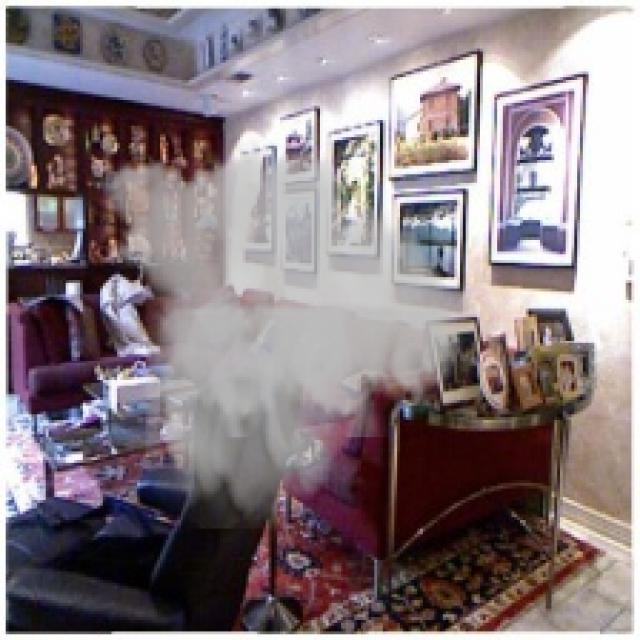smoke: (86, 134, 486, 529)
